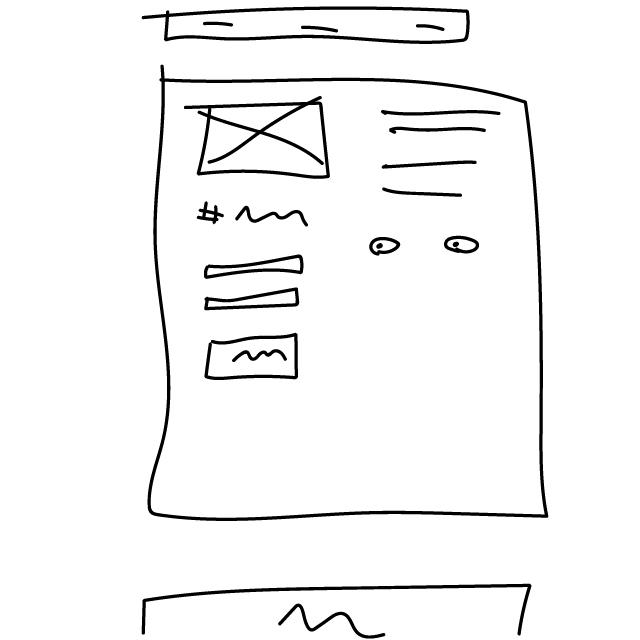buttonrotation: (201, 329, 304, 383)
checkboxrotation: (441, 232, 484, 260), (370, 233, 406, 260)
containerrotation: (139, 57, 564, 527)
footerrotation: (127, 570, 543, 640)
framerotation: (182, 94, 337, 186)
headingrotation: (194, 200, 312, 237)
inputrotation: (202, 254, 309, 282), (200, 286, 303, 314)
navrotation: (143, 4, 478, 49)
textrotation: (373, 100, 510, 201)
